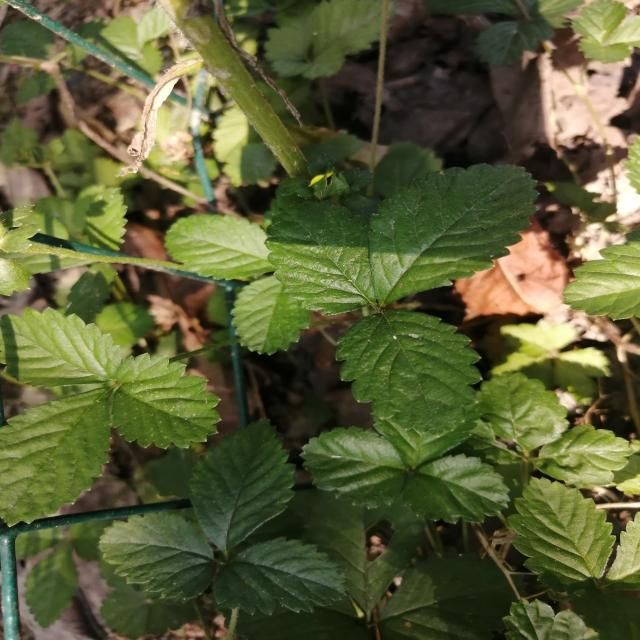Mock_strawberry: (230, 160, 552, 436), (0, 298, 215, 518)
